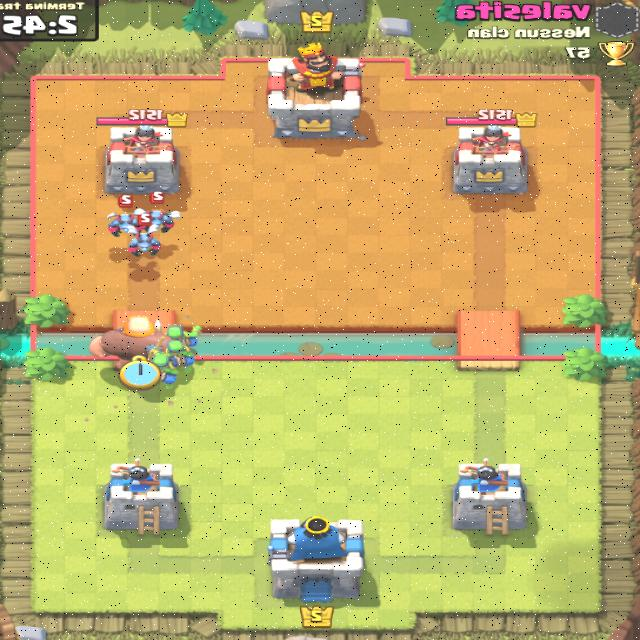Enemy-Minion: (135, 188, 185, 232), (121, 216, 167, 263), (99, 191, 142, 235)
Player-Giant: (80, 308, 178, 377)
Player-SpearGoblin: (133, 354, 186, 384), (162, 337, 200, 371), (160, 326, 200, 349)
